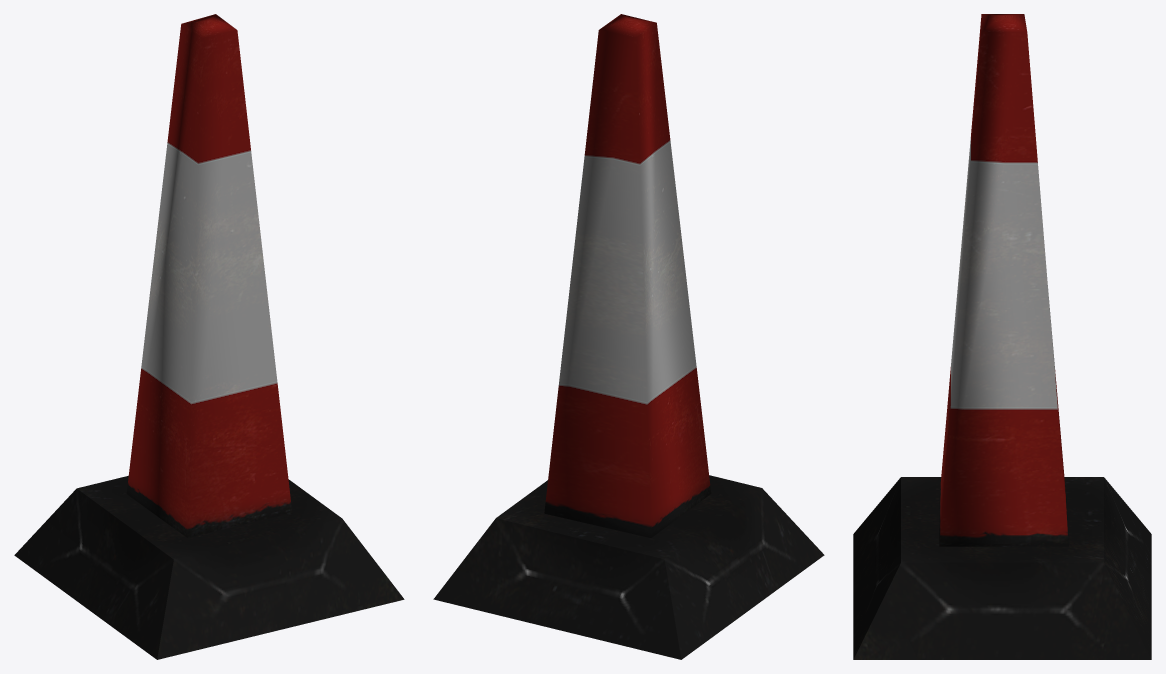
File: Road_cones_LOD2.fbx
The picture shows the model from 3 angles, left to right: view 1: azimuth 30°, elevation 25°; view 2: azimuth 150°, elevation 25°; view 3: azimuth 270°, elevation 25°; orthographic projection. The views are drawn at different scales.
Parts seen in each view (by area): view 1: Box03; view 2: Box03; view 3: Box03.
Boxes of the visible parts, box(x1,y1,x2,y2) form: Box03: box(14, 14, 404, 659); Box03: box(433, 14, 824, 659); Box03: box(853, 14, 1151, 659).
Size of the model in its own units: 0.489 by 1.05 by 0.489.
